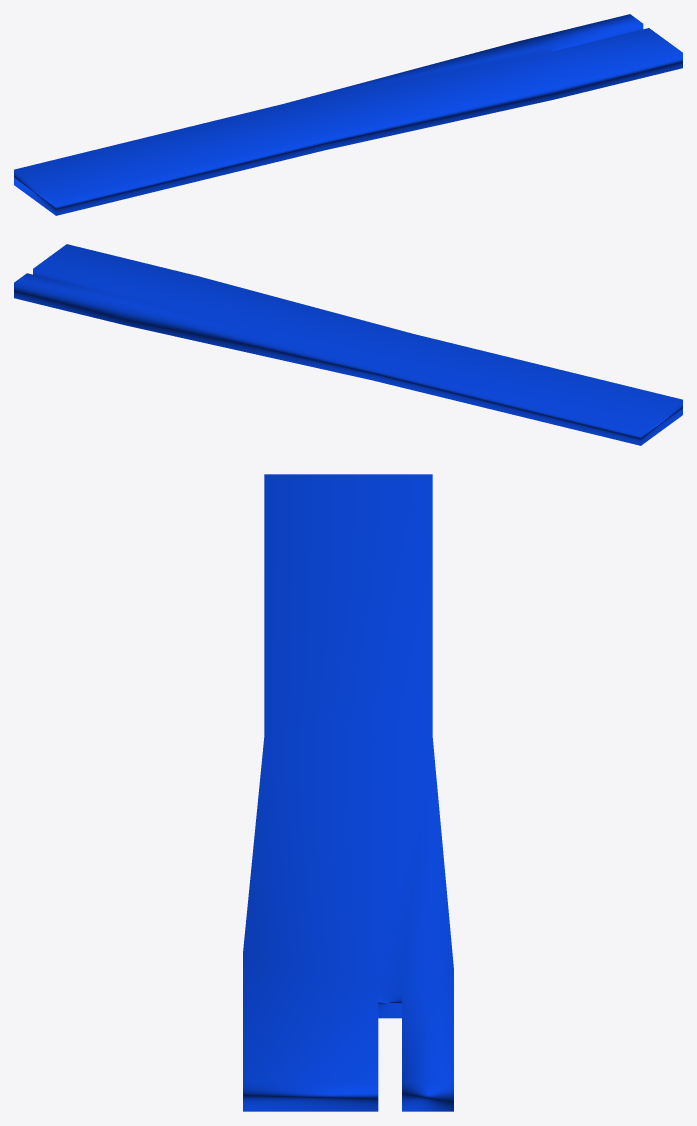
The model's file is Board_08.fbx.
3 views of the same model, one above another, from view 1: azimuth 30°, elevation 25°; view 2: azimuth 150°, elevation 25°; view 3: azimuth 270°, elevation 25° (orthographic). The views are drawn at different scales.
Parts seen in each view (by area): view 1: Board_08; view 2: Board_08; view 3: Board_08.
Boxes of the visible parts, bbox=[...] form: Board_08: bbox=[14, 14, 682, 215]; Board_08: bbox=[14, 244, 682, 445]; Board_08: bbox=[243, 474, 453, 1111].
Bounding box in the file's own units: 146 × 3.48 × 21.49.
